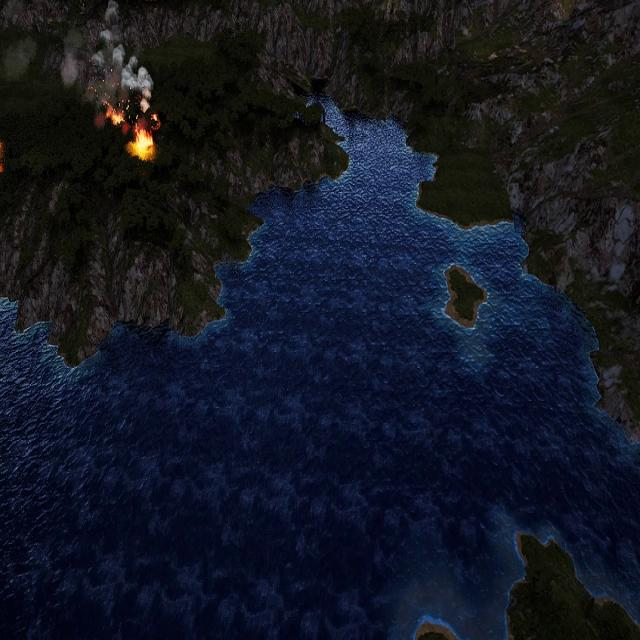fire: (104, 100, 159, 161)
smoke: (57, 0, 150, 94)
